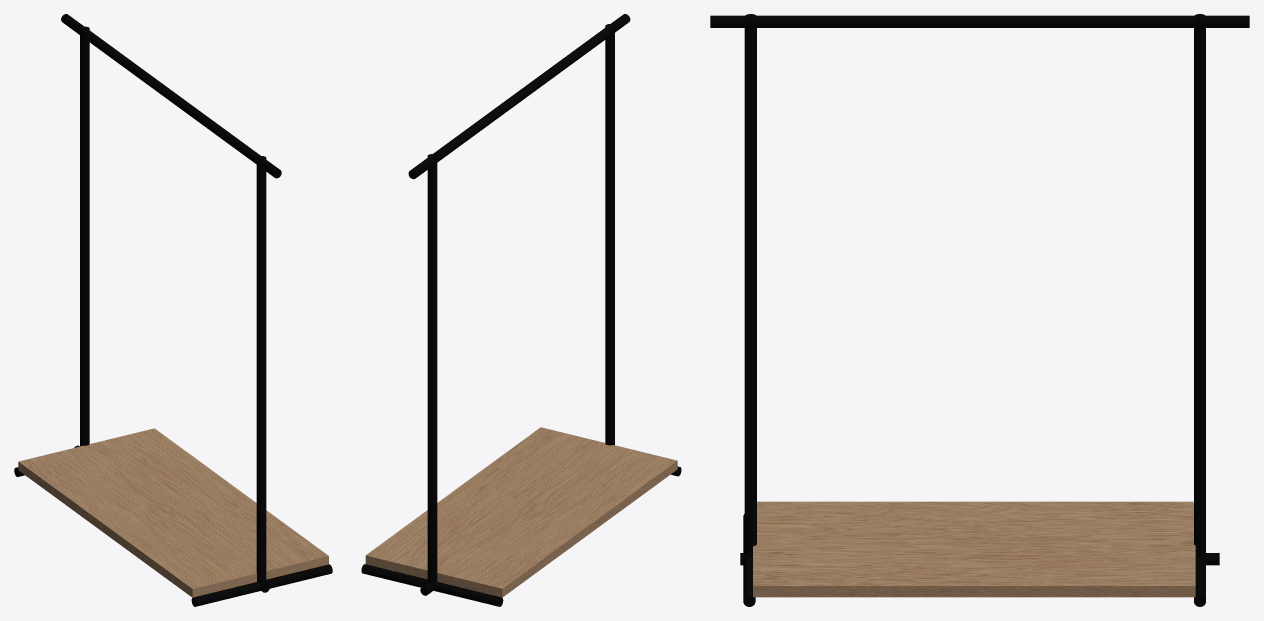
The model's file is sidehanging.glb.
The picture shows the model from 3 angles, left to right: view 1: azimuth 30°, elevation 25°; view 2: azimuth 150°, elevation 25°; view 3: azimuth 270°, elevation 25°; orthographic projection. The views are drawn at different scales.
Visible parts, largest first — view 1: Cube, Cylinder.003, Cylinder.002, Cylinder.005, Cylinder.001; view 2: Cube, Cylinder.002, Cylinder.003, Cylinder.005, Cylinder; view 3: Cube, Cylinder.003, Cylinder.005, Cylinder.002.
Part boxes in pixels (<box>): Cube: <box>18,428,328,597</box>; Cylinder.003: <box>256,156,266,583</box>; Cylinder.002: <box>80,26,89,446</box>; Cylinder.005: <box>61,14,281,178</box>; Cylinder.001: <box>191,564,332,606</box>; Cube: <box>365,427,677,597</box>; Cylinder.002: <box>427,154,437,584</box>; Cylinder.003: <box>605,24,614,445</box>; Cylinder.005: <box>408,14,630,179</box>; Cylinder: <box>361,564,503,606</box>; Cube: <box>753,501,1195,597</box>; Cylinder.003: <box>744,14,756,556</box>; Cylinder.005: <box>710,15,1249,27</box>; Cylinder.002: <box>1194,14,1205,556</box>.
Size of the model in its own units: 0.4064 by 1.23 by 1.1.
4 materials, 1 textured.
